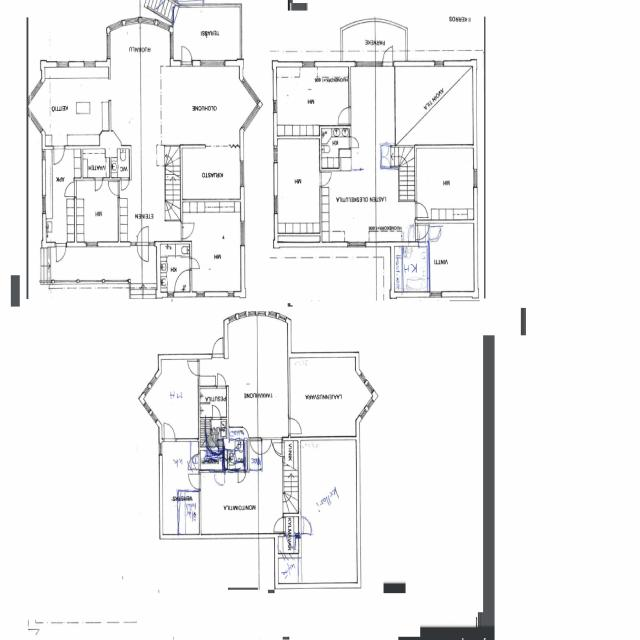door: (212, 338, 224, 359), (338, 107, 351, 124), (182, 46, 193, 66), (403, 226, 414, 246), (164, 423, 176, 441), (138, 226, 148, 247), (138, 242, 148, 263), (415, 202, 428, 218), (167, 510, 180, 525), (180, 223, 193, 238), (288, 418, 300, 434), (56, 242, 66, 261), (383, 47, 393, 66), (299, 518, 312, 532), (273, 518, 286, 532), (64, 182, 77, 196), (188, 474, 200, 489), (54, 145, 64, 163), (108, 181, 120, 195), (262, 437, 272, 453), (272, 437, 282, 453), (215, 470, 225, 486), (320, 173, 332, 186), (189, 361, 200, 375), (428, 226, 439, 240), (274, 442, 284, 457), (212, 404, 221, 420), (217, 374, 226, 389), (287, 533, 295, 549), (122, 178, 130, 192), (235, 470, 243, 483), (190, 258, 199, 269), (251, 470, 259, 482), (349, 137, 358, 147), (96, 178, 102, 190), (382, 148, 389, 157), (382, 157, 389, 166)
